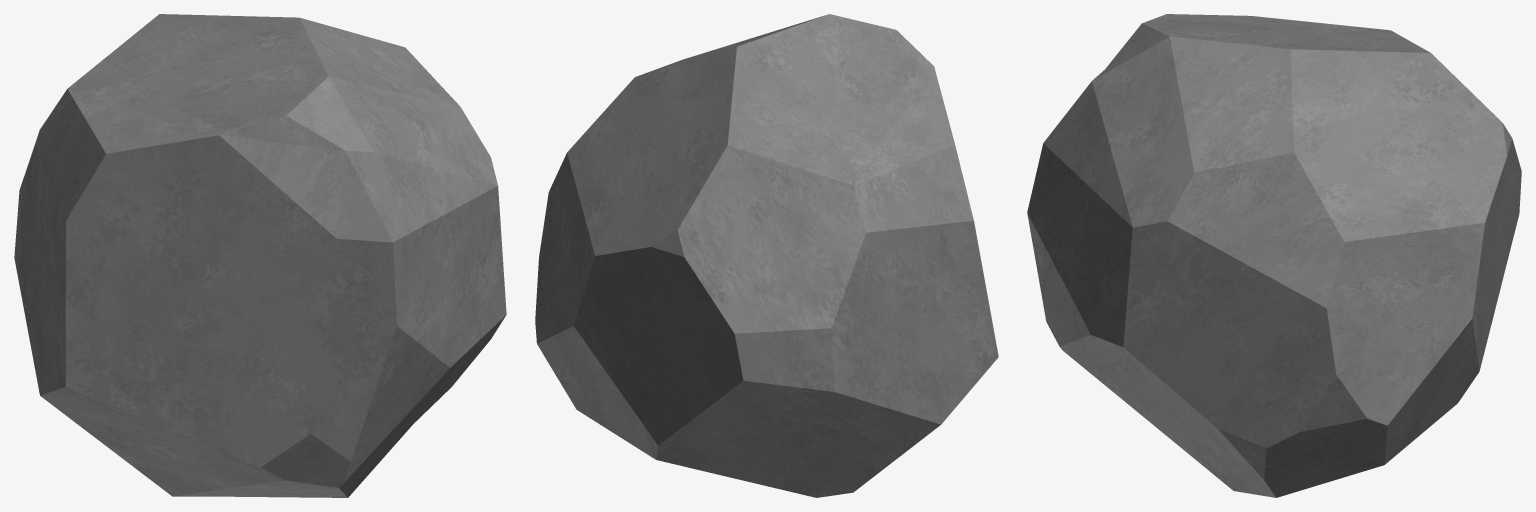
The model's file is Rock_9.glb.
The picture shows the model from 3 angles, left to right: view 1: azimuth 30°, elevation 25°; view 2: azimuth 150°, elevation 25°; view 3: azimuth 270°, elevation 25°; orthographic projection. The views are drawn at different scales.
Parts seen in each view (by area): view 1: Sphere.017; view 2: Sphere.017; view 3: Sphere.017.
Part boxes in pixels (box(x1,y1,x2,y2)): Sphere.017: box(14, 14, 506, 497); Sphere.017: box(535, 14, 998, 497); Sphere.017: box(1027, 14, 1521, 497).
Bounding box in the file's own units: 1.65 × 1.63 × 1.69.
Materials: 1 (1 with a texture image).
